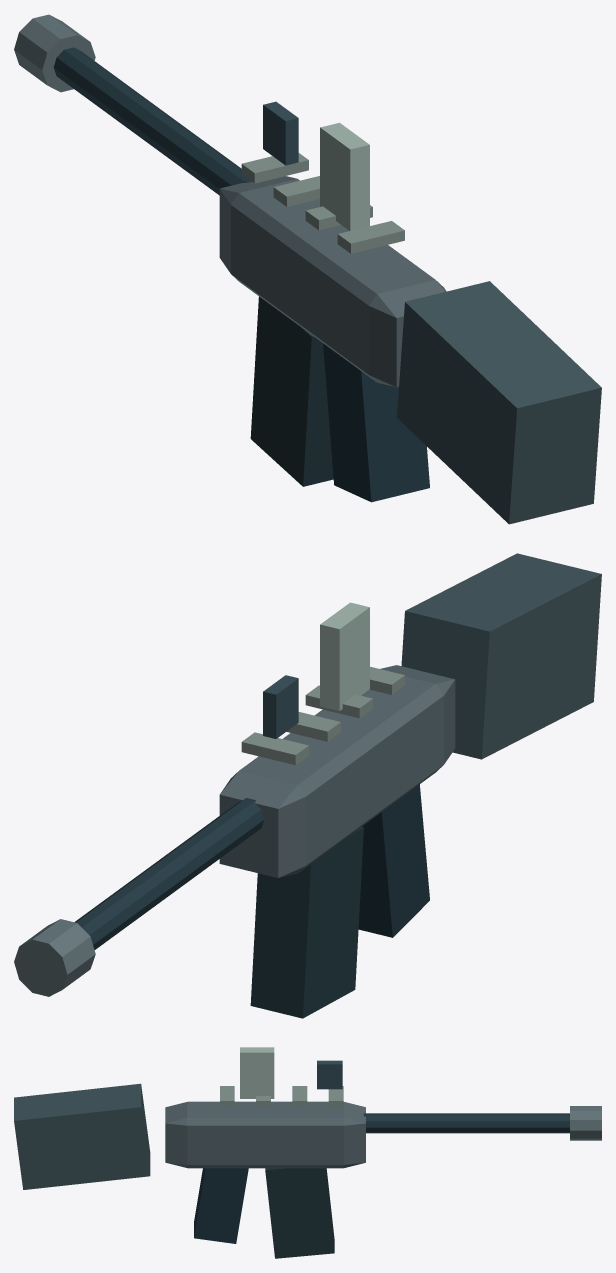
The model's file is assault-rifle.glb.
3 renders of one model, top to bottom at view 1: azimuth 30°, elevation 25°; view 2: azimuth 150°, elevation 25°; view 3: azimuth 270°, elevation 25°, orthographic. The views are drawn at different scales.
Visible parts, largest first — view 1: assault-rifle; view 2: assault-rifle; view 3: assault-rifle.
Boxes of the visible parts, x1,y1,x2,y2 form: assault-rifle: [14, 14, 601, 524]; assault-rifle: [14, 553, 601, 1018]; assault-rifle: [14, 1047, 601, 1258].
Bounding box in the file's own units: 0.13 × 0.5214 × 1.38.
